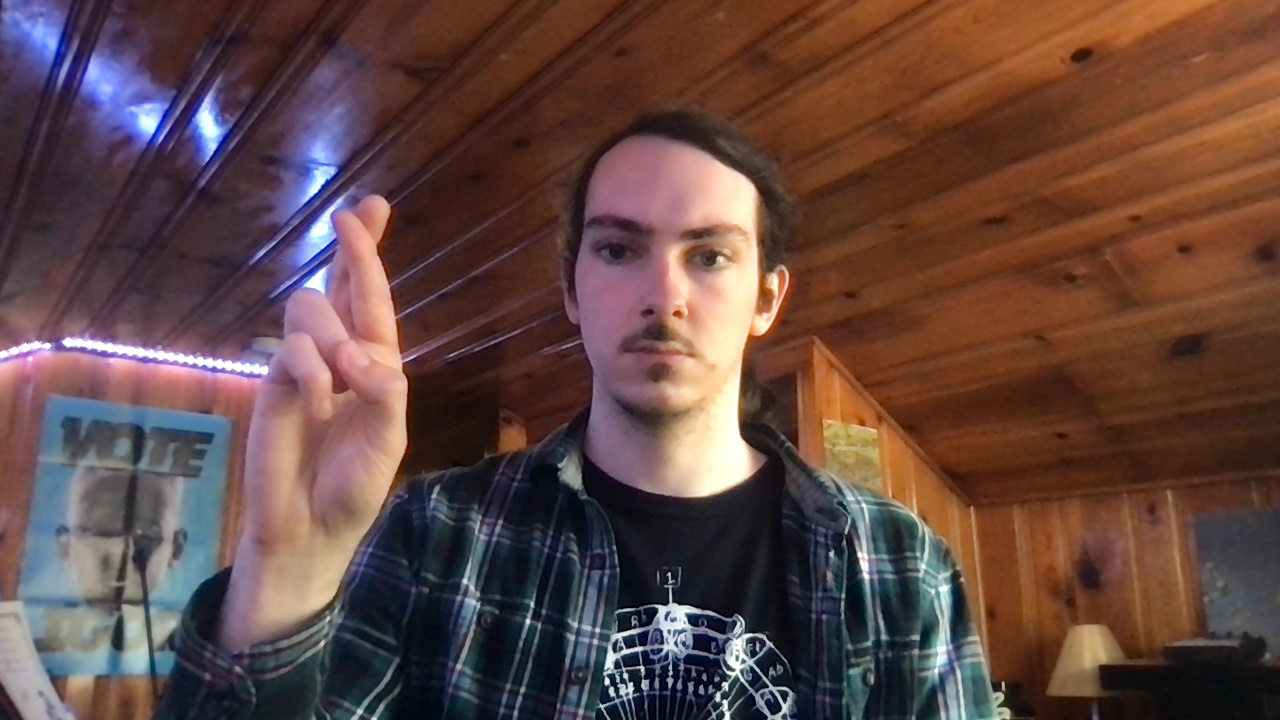r: (244, 193, 410, 549)
